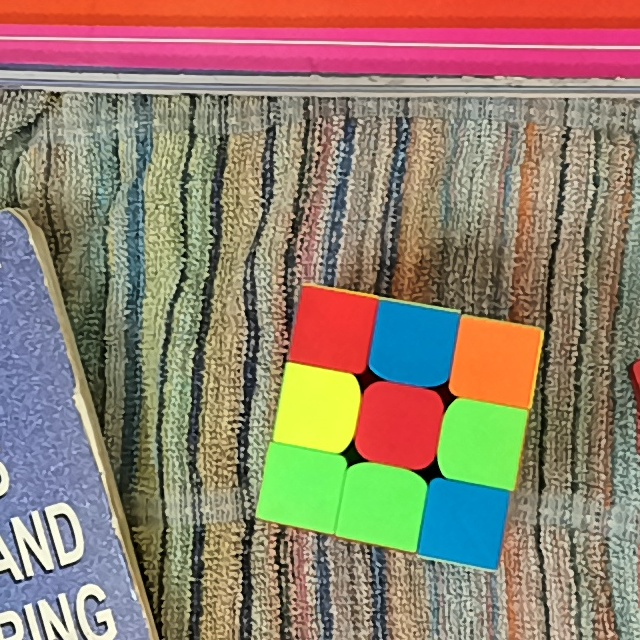tile: (463, 328, 531, 395), (366, 395, 433, 458), (450, 409, 517, 471), (379, 315, 446, 376), (268, 458, 334, 518), (348, 477, 416, 535), (286, 377, 349, 439), (431, 492, 496, 552), (305, 298, 364, 359)
